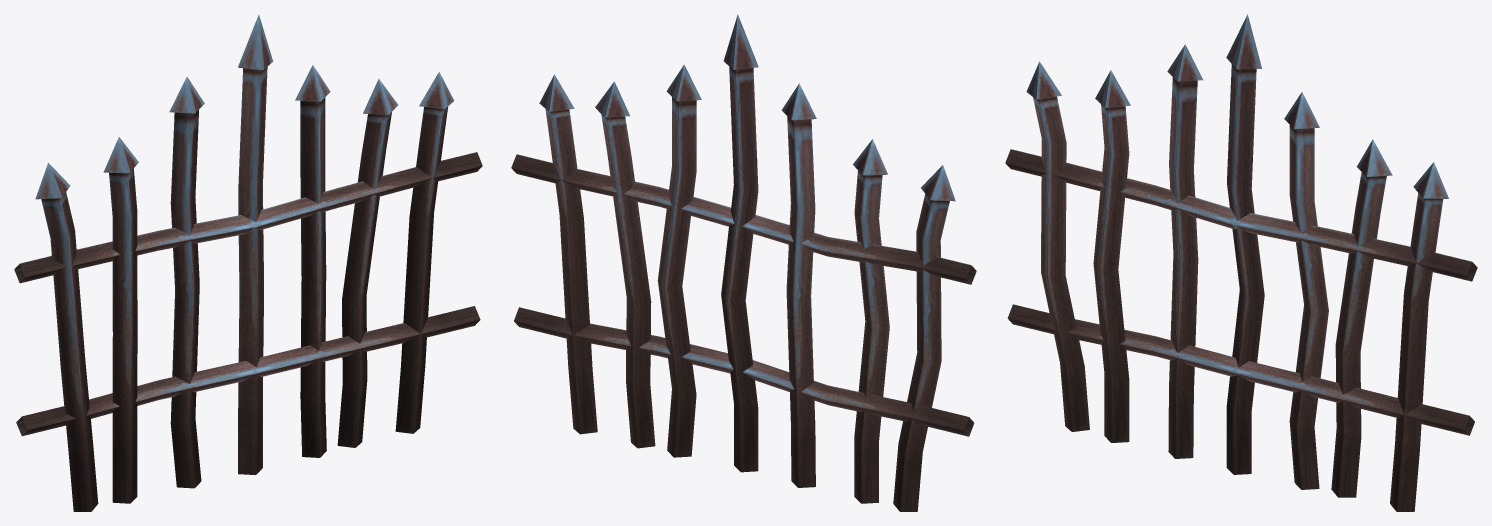
The model's file is stemple_door_01.fbx.
3 renders of one model, left to right at view 1: azimuth 30°, elevation 25°; view 2: azimuth 150°, elevation 25°; view 3: azimuth 330°, elevation 25°, orthographic.
Visible parts, largest first — view 1: sunken_tileset/sunken_wall_stair01_mat; view 2: sunken_tileset/sunken_wall_stair01_mat; view 3: sunken_tileset/sunken_wall_stair01_mat.
Boxes of the visible parts, x1=… form: sunken_tileset/sunken_wall_stair01_mat: x1=14, y1=14, x2=482, y2=511; sunken_tileset/sunken_wall_stair01_mat: x1=511, y1=14, x2=976, y2=511; sunken_tileset/sunken_wall_stair01_mat: x1=1005, y1=14, x2=1477, y2=511.
Size of the model in its own units: 4.25 by 4.04 by 0.3526.
